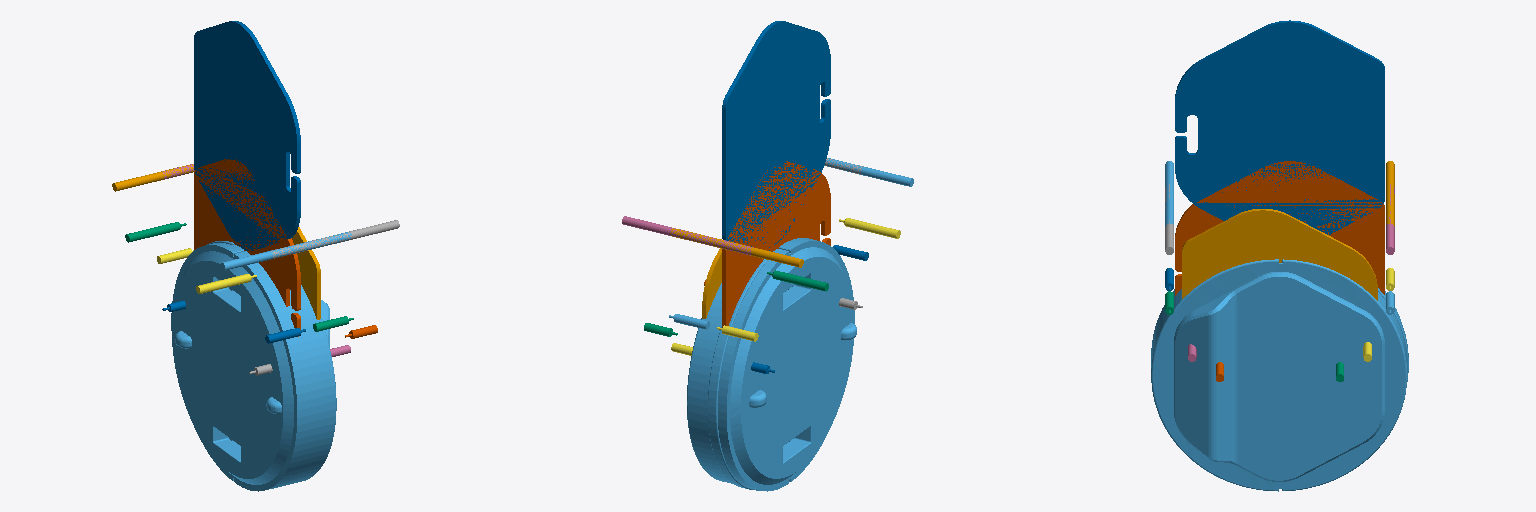
--- Render facts (derived) ---
The picture shows the robot from 3 angles, left to right: view 1: azimuth 30°, elevation 25°; view 2: azimuth 150°, elevation 25°; view 3: azimuth 270°, elevation 25°; orthographic projection.
Robot: turtlebot — 34 links, 33 joints (2 continuous, 31 fixed); root link base_footprint; default pose: all joints at 0.
Links seen in each view (by area): view 1: base_link, plate_top_link, plate_middle_link, plate_bottom_link, pole_top_3_link, pole_top_1_link, pole_top_2_link; view 2: base_link, plate_top_link, plate_middle_link, pole_top_2_link, pole_top_0_link, plate_bottom_link, pole_top_3_link; view 3: base_link, plate_top_link, plate_bottom_link, plate_middle_link, pole_top_3_link, pole_top_2_link.
Boxes of the visible links, x1,y1,x2,y2 form: base_link: (171, 241, 336, 491); plate_top_link: (194, 21, 300, 250); plate_middle_link: (194, 159, 300, 336); plate_bottom_link: (292, 227, 320, 319); pole_top_3_link: (221, 232, 351, 270); pole_top_1_link: (271, 220, 399, 258); pole_top_2_link: (112, 164, 194, 191); base_link: (687, 238, 856, 491); plate_top_link: (722, 21, 830, 250); plate_middle_link: (722, 161, 830, 327); pole_top_2_link: (670, 228, 803, 267); pole_top_0_link: (622, 216, 753, 255); plate_bottom_link: (702, 248, 721, 318); pole_top_3_link: (824, 158, 913, 186); base_link: (1151, 259, 1408, 491); plate_top_link: (1175, 20, 1384, 234); plate_bottom_link: (1182, 209, 1377, 300); plate_middle_link: (1175, 161, 1384, 295); pole_top_3_link: (1165, 161, 1173, 226); pole_top_2_link: (1386, 161, 1394, 226).
Size in the robot's own frame: 0.2938 by 0.3518 by 0.6896 metres.
Meshes: 10 distinct files referenced, 22 mesh visuals loaded (9 ASCII STL); not drawn: 1 (reference not matched to a file when rendering).

The robot description file, URDF, robot "turtlebot":
?<?xml version="1.0" encoding="utf-8"?>
<robot name="turtlebot">
  <material name="_1_-_Default">
    <texture filename="package://resources/main_body.jpg" />
  </material>
  <material name="_01 - Default">
    <texture filename="package://resources/astra.jpg" />
  </material>
  <link name="base_footprint" />
  <link name="base_link">
    <inertial>
      <origin rpy="0 0 0" xyz="0.01 0 0" />
      <mass value="2.4000000954" />
      <inertia ixx="0.0199950002133846" ixy="0" ixz="0" iyy="0.0199950002133846" iyz="0" izz="0.0367499999701977" />
    </inertial>
    <visual>
      <origin xyz="0.001 0 0.05199" />
      <geometry>
        <mesh filename="package://meshes/main_body.stl" scale="1 1 1" />
      </geometry>
      <material name="_1_-_Default" />
    </visual>
    <collision>
      <origin xyz="0 0 0.05949" />
      <geometry>
        <cylinder length="0.10938" radius="0.178" />
      </geometry>
    </collision>
  </link>
  <link name="wheel_left_link">
    <inertial>
      <origin rpy="0 0 0" xyz="0 0 0" />
      <mass value="0.0099999998" />
      <inertia ixx="0.00100000004749745" ixy="0" ixz="0" iyy="0.00100000004749745" iyz="0" izz="0.00100000004749745" />
    </inertial>
    <visual>
      <geometry>
        <mesh filename="package://meshes/wheel.stl" scale="1 1 1" />
      </geometry>
      <material name="_1_-_Default" />
    </visual>
    <collision>
      <geometry>
        <cylinder length="0.0206" radius="0.035" />
      </geometry>
    </collision>
  </link>
  <link name="wheel_right_link">
    <inertial>
      <origin rpy="0 0 0" xyz="0 0 0" />
      <mass value="0.0099999998" />
      <inertia ixx="0.00100000004749745" ixy="0" ixz="0" iyy="0.00100000004749745" iyz="0" izz="0.00100000004749745" />
    </inertial>
    <visual>
      <geometry>
        <mesh filename="package://meshes/wheel.stl" scale="1 1 1" />
      </geometry>
      <material name="_1_-_Default" />
    </visual>
    <collision>
      <geometry>
        <cylinder length="0.0206" radius="0.035" />
      </geometry>
    </collision>
  </link>
  <link name="caster_front_link">
    <inertial>
      <origin rpy="0 0 0" xyz="0 0 0" />
      <mass value="0.0099999998" />
      <inertia ixx="0.00100000004749745" ixy="0" ixz="0" iyy="0.00100000004749745" iyz="0" izz="0.00100000004749745" />
    </inertial>
    <collision>
      <geometry>
        <cylinder length="0.0176" radius="0.017" />
      </geometry>
    </collision>
  </link>
  <link name="caster_back_link">
    <inertial>
      <origin rpy="0 0 0" xyz="0 0 0" />
      <mass value="0.0099999998" />
      <inertia ixx="0.00100000004749745" ixy="0" ixz="0" iyy="0.00100000004749745" iyz="0" izz="0.00100000004749745" />
    </inertial>
    <collision>
      <geometry>
        <cylinder length="0.0176" radius="0.017" />
      </geometry>
    </collision>
  </link>
  <link name="gyro_link">
    <inertial>
      <origin rpy="0 0 0" xyz="0 0 0" />
      <mass value="0.001" />
      <inertia ixx="9.99999974737875E-05" ixy="0" ixz="0" iyy="9.99999997475243E-07" iyz="0" izz="9.99999974737875E-05" />
    </inertial>
  </link>
  <link name="cliff_sensor_left_link">
    <inertial>
      <origin rpy="0 0 0" xyz="0 0 0" />
      <mass value="0.0001" />
      <inertia ixx="9.99999974737875E-05" ixy="0" ixz="0" iyy="9.99999974737875E-05" iyz="0" izz="9.99999974737875E-05" />
    </inertial>
  </link>
  <link name="cliff_sensor_right_link">
    <inertial>
      <origin rpy="0 0 0" xyz="0 0 0" />
      <mass value="0.0001" />
      <inertia ixx="9.99999974737875E-05" ixy="0" ixz="0" iyy="9.99999974737875E-05" iyz="0" izz="9.99999974737875E-05" />
    </inertial>
  </link>
  <link name="cliff_sensor_front_link">
    <inertial>
      <origin rpy="0 0 0" xyz="0 0 0" />
      <mass value="0.0001" />
      <inertia ixx="9.99999974737875E-05" ixy="0" ixz="0" iyy="9.99999974737875E-05" iyz="0" izz="9.99999974737875E-05" />
    </inertial>
  </link>
  <link name="pole_bottom_0_link">
    <inertial>
      <origin rpy="0 0 0" xyz="0 0 0" />
      <mass value="0.0080000004" />
      <inertia ixx="1.686000018708E-06" ixy="0" ixz="0" iyy="1.686000018708E-06" iyz="0" izz="9.99999997475243E-07" />
    </inertial>
    <visual>
      <geometry>
        <mesh filename="package://meshes/pole_bottom.stl" scale="1 1 1" />
      </geometry>
      <material name="_1_-_Default" />
    </visual>
    <collision>
      <geometry>
        <cylinder length="0.0492" radius="0.006" />
      </geometry>
    </collision>
  </link>
  <link name="pole_bottom_1_link">
    <inertial>
      <origin rpy="0 0 0" xyz="0 0 0" />
      <mass value="0.0080000004" />
      <inertia ixx="1.686000018708E-06" ixy="0" ixz="0" iyy="1.686000018708E-06" iyz="0" izz="9.99999997475243E-07" />
    </inertial>
    <visual>
      <geometry>
        <mesh filename="package://meshes/pole_bottom.stl" scale="1 1 1" />
      </geometry>
      <material name="_1_-_Default" />
    </visual>
    <collision>
      <geometry>
        <cylinder length="0.0492" radius="0.006" />
      </geometry>
    </collision>
  </link>
  <link name="pole_bottom_2_link">
    <inertial>
      <origin rpy="0 0 0" xyz="0 0 0" />
      <mass value="0.0080000004" />
      <inertia ixx="1.686000018708E-06" ixy="0" ixz="0" iyy="1.686000018708E-06" iyz="0" izz="9.99999997475243E-07" />
    </inertial>
    <visual>
      <geometry>
        <mesh filename="package://meshes/pole_bottom.stl" scale="1 1 1" />
      </geometry>
      <material name="_1_-_Default" />
    </visual>
    <collision>
      <geometry>
        <cylinder length="0.0492" radius="0.006" />
      </geometry>
    </collision>
  </link>
  <link name="pole_bottom_3_link">
    <inertial>
      <origin rpy="0 0 0" xyz="0 0 0" />
      <mass value="0.0080000004" />
      <inertia ixx="1.686000018708E-06" ixy="0" ixz="0" iyy="1.686000018708E-06" iyz="0" izz="9.99999997475243E-07" />
    </inertial>
    <visual>
      <geometry>
        <mesh filename="package://meshes/pole_bottom.stl" scale="1 1 1" />
      </geometry>
      <material name="_1_-_Default" />
    </visual>
    <collision>
      <geometry>
        <cylinder length="0.0492" radius="0.006" />
      </geometry>
    </collision>
  </link>
  <link name="pole_bottom_4_link">
    <inertial>
      <origin rpy="0 0 0" xyz="0 0 0" />
      <mass value="0.0080000004" />
      <inertia ixx="1.686000018708E-06" ixy="0" ixz="0" iyy="1.686000018708E-06" iyz="0" izz="9.99999997475243E-07" />
    </inertial>
    <visual>
      <geometry>
        <mesh filename="package://meshes/pole_bottom.stl" scale="1 1 1" />
      </geometry>
      <material name="_1_-_Default" />
    </visual>
    <collision>
      <geometry>
        <cylinder length="0.0492" radius="0.006" />
      </geometry>
    </collision>
  </link>
  <link name="pole_bottom_5_link">
    <inertial>
      <origin rpy="0 0 0" xyz="0 0 0" />
      <mass value="0.0080000004" />
      <inertia ixx="1.686000018708E-06" ixy="0" ixz="0" iyy="1.686000018708E-06" iyz="0" izz="9.99999997475243E-07" />
    </inertial>
    <visual>
      <geometry>
        <mesh filename="package://meshes/pole_bottom.stl" scale="1 1 1" />
      </geometry>
      <material name="_1_-_Default" />
    </visual>
    <collision>
      <geometry>
        <cylinder length="0.0492" radius="0.006" />
      </geometry>
    </collision>
  </link>
  <link name="plate_bottom_link">
    <inertial>
      <origin rpy="0 0 0" xyz="0 0 0" />
      <mass value="0.5199999809" />
      <inertia ixx="0.00332799996249378" ixy="0" ixz="0" iyy="0.00332799996249378" iyz="0" izz="0.00665599992498755" />
    </inertial>
    <visual>
      <geometry>
        <mesh filename="package://meshes/plate_bottom.stl" scale="1 1 1" />
      </geometry>
      <material name="_1_-_Default" />
    </visual>
    <collision>
      <origin xyz="-0.02364 0 0" />
      <geometry>
        <cylinder length="0.006" radius="0.17" />
      </geometry>
    </collision>
  </link>
  <link name="pole_middle_0_link">
    <inertial>
      <origin rpy="0 0 0" xyz="0 0 0" />
      <mass value="0.0119999992" />
      <inertia ixx="3.80500000574102E-06" ixy="0" ixz="0" iyy="3.80500000574102E-06" iyz="0" izz="9.99999997475243E-07" />
    </inertial>
    <visual>
      <origin rpy="-3.141593 0 -3.141593" />
      <geometry>
        <mesh filename="package://meshes/pole_middle.stl" scale="1 1 1" />
      </geometry>
      <material name="_1_-_Default" />
    </visual>
    <collision>
      <geometry>
        <cylinder length="0.0608" radius="0.006" />
      </geometry>
    </collision>
  </link>
  <link name="pole_middle_1_link">
    <inertial>
      <origin rpy="0 0 0" xyz="0 0 0" />
      <mass value="0.0119999992" />
      <inertia ixx="3.80500000574102E-06" ixy="0" ixz="0" iyy="3.80500000574102E-06" iyz="0" izz="9.99999997475243E-07" />
    </inertial>
    <visual>
      <origin rpy="-3.141593 0 -3.141593" />
      <geometry>
        <mesh filename="package://meshes/pole_middle.stl" scale="1 1 1" />
      </geometry>
      <material name="_1_-_Default" />
    </visual>
    <collision>
      <geometry>
        <cylinder length="0.0608" radius="0.006" />
      </geometry>
    </collision>
  </link>
  <link name="pole_middle_2_link">
    <inertial>
      <origin rpy="0 0 0" xyz="0 0 0" />
      <mass value="0.0119999992" />
      <inertia ixx="3.80500000574102E-06" ixy="0" ixz="0" iyy="3.80500000574102E-06" iyz="0" izz="9.99999997475243E-07" />
    </inertial>
    <visual>
      <origin rpy="-3.141593 0 -3.141593" />
      <geometry>
        <mesh filename="package://meshes/pole_middle.stl" scale="1 1 1" />
      </geometry>
      <material name="_1_-_Default" />
    </visual>
    <collision>
      <geometry>
        <cylinder length="0.0608" radius="0.006" />
      </geometry>
    </collision>
  </link>
  <link name="pole_middle_3_link">
    <inertial>
      <origin rpy="0 0 0" xyz="0 0 0" />
      <mass value="0.0119999992" />
      <inertia ixx="3.80500000574102E-06" ixy="0" ixz="0" iyy="3.80500000574102E-06" iyz="0" izz="9.99999997475243E-07" />
    </inertial>
    <visual>
      <origin rpy="-3.141593 0 -3.141593" />
      <geometry>
        <mesh filename="package://meshes/pole_middle.stl" scale="1 1 1" />
      </geometry>
      <material name="_1_-_Default" />
    </visual>
    <collision>
      <geometry>
        <cylinder length="0.0608" radius="0.006" />
      </geometry>
    </collision>
  </link>
  <link name="plate_middle_link">
    <inertial>
      <origin rpy="0 0 0" xyz="0 0 0" />
      <mass value="0.5199999809" />
      <inertia ixx="0.00332799996249378" ixy="0" ixz="0" iyy="0.00332799996249378" iyz="0" izz="0.00665599992498755" />
    </inertial>
    <visual>
      <geometry>
        <mesh filename="package://meshes/plate_middle.stl" scale="1 1 1" />
      </geometry>
      <material name="_1_-_Default" />
    </visual>
    <collision>
      <origin xyz="0.01364 0 0" />
      <geometry>
        <mesh filename="package://meshes/plate_simple.stl" scale="0.001 0.001 0.001" />
      </geometry>
    </collision>
  </link>
  <link name="pole_top_0_link">
    <inertial>
      <origin rpy="0 0 0" xyz="0 0 0" />
      <mass value="0.0599999949" />
      <inertia ixx="0.000206990996957757" ixy="0" ixz="0" iyy="0.000206990996957757" iyz="0" izz="1.07999994725105E-06" />
    </inertial>
    <visual>
      <geometry>
        <mesh filename="package://meshes/pole_top.stl" scale="1 1 1" />
      </geometry>
      <material name="_1_-_Default" />
    </visual>
    <collision>
      <geometry>
        <cylinder length="0.2032" radius="0.006" />
      </geometry>
    </collision>
  </link>
  <link name="pole_top_1_link">
    <inertial>
      <origin rpy="0 0 0" xyz="0 0 0" />
      <mass value="0.0599999949" />
      <inertia ixx="0.000206990996957757" ixy="0" ixz="0" iyy="0.000206990996957757" iyz="0" izz="1.07999994725105E-06" />
    </inertial>
    <visual>
      <geometry>
        <mesh filename="package://meshes/pole_top.stl" scale="1 1 1" />
      </geometry>
      <material name="_1_-_Default" />
    </visual>
    <collision>
      <geometry>
        <cylinder length="0.2032" radius="0.006" />
      </geometry>
    </collision>
  </link>
  <link name="pole_top_2_link">
    <inertial>
      <origin rpy="0 0 0" xyz="0 0 0" />
      <mass value="0.0599999949" />
      <inertia ixx="0.000206990996957757" ixy="0" ixz="0" iyy="0.000206990996957757" iyz="0" izz="1.07999994725105E-06" />
    </inertial>
    <visual>
      <geometry>
        <mesh filename="package://meshes/pole_top.stl" scale="1 1 1" />
      </geometry>
      <material name="_1_-_Default" />
    </visual>
    <collision>
      <geometry>
        <cylinder length="0.2032" radius="0.006" />
      </geometry>
    </collision>
  </link>
  <link name="pole_top_3_link">
    <inertial>
      <origin rpy="0 0 0" xyz="0 0 0" />
      <mass value="0.0599999949" />
      <inertia ixx="0.000206990996957757" ixy="0" ixz="0" iyy="0.000206990996957757" iyz="0" izz="1.07999994725105E-06" />
    </inertial>
    <visual>
      <geometry>
        <mesh filename="package://meshes/pole_top.stl" scale="1 1 1" />
      </geometry>
      <material name="_1_-_Default" />
    </visual>
    <collision>
      <geometry>
        <cylinder length="0.2032" radius="0.006" />
      </geometry>
    </collision>
  </link>
  <link name="pole_kinect_0_link">
    <inertial>
      <origin rpy="0 0 0" xyz="0 0 0" />
      <mass value="0.0199999996" />
      <inertia ixx="1.47820001075161E-05" ixy="0" ixz="0" iyy="1.47820001075161E-05" iyz="0" izz="9.99999997475243E-07" />
    </inertial>
    <visual>
      <geometry>
        <mesh filename="package://meshes/pole_kinect.stl" scale="1 1 1" />
      </geometry>
      <material name="_1_-_Default" />
    </visual>
    <collision>
      <geometry>
        <cylinder length="0.0936" radius="0.006" />
      </geometry>
    </collision>
  </link>
  <link name="pole_kinect_1_link">
    <inertial>
      <origin rpy="0 0 0" xyz="0 0 0" />
      <mass value="0.0199999996" />
      <inertia ixx="1.47820001075161E-05" ixy="0" ixz="0" iyy="1.47820001075161E-05" iyz="0" izz="9.99999997475243E-07" />
    </inertial>
    <visual>
      <geometry>
        <mesh filename="package://meshes/pole_kinect.stl" scale="1 1 1" />
      </geometry>
      <material name="_1_-_Default" />
    </visual>
    <collision>
      <geometry>
        <cylinder length="0.0936" radius="0.006" />
      </geometry>
    </collision>
  </link>
  <link name="plate_top_link">
    <inertial>
      <origin rpy="0 0 0" xyz="0 0 0" />
      <mass value="0.5199999809" />
      <inertia ixx="0.00332799996249378" ixy="0" ixz="0" iyy="0.00332799996249378" iyz="0" izz="0.00665599992498755" />
    </inertial>
    <visual>
      <geometry>
        <mesh filename="package://meshes/plate_top.stl" scale="1 1 1" />
      </geometry>
      <material name="_1_-_Default" />
    </visual>
    <collision>
      <origin xyz="0.01364 0 0" />
      <geometry>
        <mesh filename="package://meshes/plate_simple.stl" scale="0.001 0.001 0.001" />
      </geometry>
    </collision>
  </link>
  <link name="camera_rgb_frame" />
  <link name="camera_rgb_optical_frame" />
  <link name="camera_link">
    <inertial>
      <origin rpy="0 0 0" xyz="0 0 0" />
      <mass value="0.5640000105" />
      <inertia ixx="0.003881243057549" ixy="0" ixz="0" iyy="0.00049894000403583" iyz="0" izz="0.00387925724498928" />
    </inertial>
    <visual>
      <origin rpy="-4.712389 0 -4.712389" xyz="-0.04 0.02 -0.01" />
      <geometry>
        <mesh filename="package://meshes/astra.stl" scale="0.000668 0.000668 0.000668" />
      </geometry>
      <material name="_01 - Default" />
    </visual>
    <collision>
      <geometry>
        <box size="0.04 0.165 0.03" />
      </geometry>
    </collision>
    <collision>
      <origin rpy="-4.712389 0 -4.712389" xyz="-0.04 0.02 -0.01" />
      <geometry>
        <mesh filename="package://meshes/astra.stl" scale="0.000668 0.000668 0.000668" />
      </geometry>
    </collision>
  </link>
  <link name="camera_depth_frame" />
  <link name="camera_depth_optical_frame" />
  <joint name="base_footprint_base_link_joint" type="fixed">
    <origin xyz="0 0 0.0102" />
    <parent link="base_footprint" />
    <child link="base_link" />
  </joint>
  <joint name="wheel_left_joint" type="continuous">
    <origin rpy="-1.570796 0 0" xyz="0 0.115 0.025" />
    <parent link="base_link" />
    <child link="wheel_left_link" />
    <axis xyz="0 0 1" />
  </joint>
  <joint name="wheel_right_joint" type="continuous">
    <origin rpy="-1.570796 0 0" xyz="0 -0.115 0.025" />
    <parent link="base_link" />
    <child link="wheel_right_link" />
    <axis xyz="0 0 1" />
  </joint>
  <joint name="caster_front_joint" type="fixed">
    <origin rpy="-1.570796 0 0" xyz="0.115 0 0.007" />
    <parent link="base_link" />
    <child link="caster_front_link" />
  </joint>
  <joint name="caster_back_joint" type="fixed">
    <origin rpy="-1.570796 0 0" xyz="-0.135 0 0.009" />
    <parent link="base_link" />
    <child link="caster_back_link" />
  </joint>
  <joint name="gyro_joint" type="fixed">
    <origin xyz="0.056 0.062 0.0202" />
    <parent link="base_link" />
    <child link="gyro_link" />
  </joint>
  <joint name="cliff_sensor_left_joint" type="fixed">
    <origin rpy="0 1.570796 0" xyz="0.08734 0.13601 0.0214" />
    <parent link="base_link" />
    <child link="cliff_sensor_left_link" />
  </joint>
  <joint name="cliff_sensor_right_joint" type="fixed">
    <origin rpy="0 1.570796 0" xyz="0.085 -0.13601 0.0214" />
    <parent link="base_link" />
    <child link="cliff_sensor_right_link" />
  </joint>
  <joint name="cliff_sensor_front_joint" type="fixed">
    <origin rpy="0 1.570796 0" xyz="0.156 0 0.0214" />
    <parent link="base_link" />
    <child link="cliff_sensor_front_link" />
  </joint>
  <joint name="pole_bottom_0_joint" type="fixed">
    <origin xyz="0.12 0.082 0.1028" />
    <parent link="base_link" />
    <child link="pole_bottom_0_link" />
  </joint>
  <joint name="pole_bottom_1_joint" type="fixed">
    <origin xyz="0.055 0.12 0.1028" />
    <parent link="base_link" />
    <child link="pole_bottom_1_link" />
  </joint>
  <joint name="pole_bottom_2_joint" type="fixed">
    <origin xyz="-0.055 0.12 0.1028" />
    <parent link="base_link" />
    <child link="pole_bottom_2_link" />
  </joint>
  <joint name="pole_bottom_3_joint" type="fixed">
    <origin xyz="0.12 -0.082 0.1028" />
    <parent link="base_link" />
    <child link="pole_bottom_3_link" />
  </joint>
  <joint name="pole_bottom_4_joint" type="fixed">
    <origin xyz="0.055 -0.12 0.1028" />
    <parent link="base_link" />
    <child link="pole_bottom_4_link" />
  </joint>
  <joint name="pole_bottom_5_joint" type="fixed">
    <origin xyz="-0.055 -0.12 0.1028" />
    <parent link="base_link" />
    <child link="pole_bottom_5_link" />
  </joint>
  <joint name="plate_bottom_joint" type="fixed">
    <origin xyz="0.02364 0 0.1306" />
    <parent link="base_link" />
    <child link="plate_bottom_link" />
  </joint>
  <joint name="pole_middle_0_joint" type="fixed">
    <origin xyz="0.0381 0.1505 0.164" />
    <parent link="base_link" />
    <child link="pole_middle_0_link" />
  </joint>
  <joint name="pole_middle_1_joint" type="fixed">
    <origin xyz="0.0381 -0.1505 0.164" />
    <parent link="base_link" />
    <child link="pole_middle_1_link" />
  </joint>
  <joint name="pole_middle_2_joint" type="fixed">
    <origin xyz="-0.0381 0.1505 0.164" />
    <parent link="base_link" />
    <child link="pole_middle_2_link" />
  </joint>
  <joint name="pole_middle_3_joint" type="fixed">
    <origin xyz="-0.0381 -0.1505 0.164" />
    <parent link="base_link" />
    <child link="pole_middle_3_link" />
  </joint>
  <joint name="plate_middle_joint" type="fixed">
    <origin xyz="-0.01364 0 0.1874" />
    <parent link="base_link" />
    <child link="plate_middle_link" />
  </joint>
  <joint name="pole_top_0_joint" type="fixed">
    <origin xyz="0.0381 0.1505 0.292" />
    <parent link="base_link" />
    <child link="pole_top_0_link" />
  </joint>
  <joint name="pole_top_1_joint" type="fixed">
    <origin xyz="0.0381 -0.1505 0.292" />
    <parent link="base_link" />
    <child link="pole_top_1_link" />
  </joint>
  <joint name="pole_top_2_joint" type="fixed">
    <origin xyz="-0.0381 0.1505 0.292" />
    <parent link="base_link" />
    <child link="pole_top_2_link" />
  </joint>
  <joint name="pole_top_3_joint" type="fixed">
    <origin xyz="-0.0381 -0.1505 0.292" />
    <parent link="base_link" />
    <child link="pole_top_3_link" />
  </joint>
  <joint name="pole_kinect_0_joint" type="fixed">
    <origin xyz="-0.1024 0.098 0.2372" />
    <parent link="base_link" />
    <child link="pole_kinect_0_link" />
  </joint>
  <joint name="pole_kinect_1_joint" type="fixed">
    <origin xyz="-0.1024 -0.098 0.2372" />
    <parent link="base_link" />
    <child link="pole_kinect_1_link" />
  </joint>
  <joint name="plate_top_joint" type="fixed">
    <origin xyz="-0.01364 0 0.3966" />
    <parent link="base_link" />
    <child link="plate_top_link" />
  </joint>
  <joint name="base_link_camera_rgb_frame_joint" type="fixed">
    <origin xyz="-0.087 -0.0125 0.287" />
    <parent link="base_link" />
    <child link="camera_rgb_frame" />
  </joint>
  <joint name="camera_rgb_frame_camera_rgb_optical_frame_joint" type="fixed">
    <origin rpy="-1.570796 0 -1.570796" />
    <parent link="camera_rgb_frame" />
    <child link="camera_rgb_optical_frame" />
  </joint>
  <joint name="camera_rgb_frame_camera_link_joint" type="fixed">
    <origin xyz="0 -0.0125 0" />
    <parent link="camera_rgb_frame" />
    <child link="camera_link" />
  </joint>
  <joint name="camera_rgb_frame_camera_depth_frame_joint" type="fixed">
    <origin xyz="0 0.025 0" />
    <parent link="camera_rgb_frame" />
    <child link="camera_depth_frame" />
  </joint>
  <joint name="camera_depth_frame_camera_depth_optical_frame_joint" type="fixed">
    <origin rpy="-1.570796 0 -1.570796" />
    <parent link="camera_depth_frame" />
    <child link="camera_depth_optical_frame" />
  </joint>
  <gazebo reference="wheel_left_link">
  <mu1>1.0</mu1>
  <mu2>1.0</mu2>
  <kp>1000000.0</kp>
  <kd>100.0</kd>
  <minDepth>0.001</minDepth>
  <maxVel>1.0</maxVel>
  <sensor name="wheel_drop_left" type="contact">
    <always_on>1</always_on>
    <update_rate>50.0</update_rate>
    <visualize>true</visualize>
    <contact>
      <collision>wheel_left_link_collision</collision>
    </contact>
  </sensor>
</gazebo>
<gazebo reference="wheel_right_link">
  <mu1>1.0</mu1>
  <mu2>1.0</mu2>
  <kp>1000000.0</kp>
  <kd>100.0</kd>
  <minDepth>0.001</minDepth>
  <maxVel>1.0</maxVel>
  <sensor name="wheel_drop_right" type="contact">
    <always_on>1</always_on>
    <update_rate>50.0</update_rate>
    <visualize>true</visualize>
    <contact>
      <collision>wheel_right_link_collision</collision>
    </contact>
  </sensor>
</gazebo>
<gazebo reference="caster_front_link">
  <mu1>0.0</mu1>
  <mu2>0.0</mu2>
  <kp>1000000.0</kp>
  <kd>100.0</kd>
  <minDepth>0.001</minDepth>
  <maxVel>1.0</maxVel>
</gazebo>
<gazebo reference="caster_back_link">
  <mu1>0.0</mu1>
  <mu2>0.0</mu2>
  <kp>1000000.0</kp>
  <kd>100.0</kd>
  <minDepth>0.001</minDepth>
  <maxVel>1.0</maxVel>
</gazebo>
<gazebo reference="base_link">
  <mu1>0.3</mu1>
  <mu2>0.3</mu2>
  <sensor name="bumpers" type="contact">
    <always_on>1</always_on>
    <update_rate>50.0</update_rate>
    <visualize>true</visualize>
    <contact>
      <collision>base_footprint_fixed_joint_lump__base_collision</collision>
    </contact>
  </sensor>
</gazebo>
<gazebo reference="cliff_sensor_left_link">
  <sensor name="cliff_sensor_left" type="ray">
    <always_on>true</always_on>
    <update_rate>50</update_rate>
    <visualize>true</visualize>
    <ray>
      <scan>
        <horizontal>
          <samples>50</samples>
          <resolution>1.0</resolution>
          <min_angle>-0.0436</min_angle>
          <!-- -2.5 degree -->
          <max_angle>0.0436</max_angle>
          <!-- 2.5 degree -->
        </horizontal>
        <!--            Can't use vertical rays until this bug is resolved: -->
        <!--            https://bitbucket.org/osrf/gazebo/issue/509/vertical-sensor-doesnt-works -->
        <!--               <vertical> -->
        <!--                 <samples>50</samples> -->
        <!--                 <resolution>1.0</resolution> -->
        <!--                 <min_angle>-0.0436</min_angle>  -2.5 degree -->
        <!--                 <max_angle>0.0436</max_angle> 2.5 degree -->
        <!--               </vertical> -->
      </scan>
      <range>
        <min>0.01</min>
        <max>0.15</max>
        <resolution>1.0</resolution>
      </range>
    </ray>
  </sensor>
</gazebo>
<gazebo reference="cliff_sensor_right_link">
  <sensor name="cliff_sensor_right" type="ray">
    <always_on>true</always_on>
    <update_rate>50</update_rate>
    <visualize>true</visualize>
    <ray>
      <scan>
        <horizontal>
          <samples>50</samples>
          <resolution>1.0</resolution>
          <min_angle>-0.0436</min_angle>
          <!-- -2.5 degree -->
          <max_angle>0.0436</max_angle>
          <!-- 2.5 degree -->
        </horizontal>
        <!--            Can't use vertical rays until this bug is resolved: -->
        <!--            https://bitbucket.org/osrf/gazebo/issue/509/vertical-sensor-doesnt-works -->
        <!--               <vertical> -->
        <!--                 <samples>50</samples> -->
        <!--                 <resolution>1.0</resolution> -->
        <!--                 <min_angle>-0.0436</min_angle>  -2.5 degree -->
        <!--                 <max_angle>0.0436</max_angle> 2.5 degree -->
        <!--               </vertical> -->
      </scan>
      <range>
        <min>0.01</min>
        <max>0.15</max>
        <resolution>1.0</resolution>
      </range>
    </ray>
  </sensor>
</gazebo>
<gazebo reference="cliff_sensor_front_link">
  <sensor name="cliff_sensor_front" type="ray">
    <always_on>true</always_on>
    <update_rate>50</update_rate>
    <visualize>true</visualize>
    <ray>
      <scan>
        <horizontal>
          <samples>50</samples>
          <resolution>1.0</resolution>
          <min_angle>-0.0436</min_angle>
          <!-- -2.5 degree -->
          <max_angle>0.0436</max_angle>
          <!-- 2.5 degree -->
        </horizontal>
        <!--               Can't use vertical rays until this bug is resolved: -->
        <!--            https://bitbucket.org/osrf/gazebo/issue/509/vertical-sensor-doesnt-works -->
        <!--               <vertical> -->
        <!--                 <samples>50</samples> -->
        <!--                 <resolution>1.0</resolution> -->
        <!--                 <min_angle>-0.0436</min_angle>  -2.5 degree -->
        <!--                 <max_angle>0.0436</max_angle> 2.5 degree -->
        <!--               </vertical> -->
      </scan>
      <range>
        <min>0.01</min>
        <max>0.15</max>
        <resolution>1.0</resolution>
      </range>
    </ray>
  </sensor>
</gazebo>
<gazebo reference="gyro_link">
  <sensor name="imu" type="imu">
    <always_on>true</always_on>
    <update_rate>50</update_rate>
    <visualize>false</visualize>
    <imu>
      <noise>
        <type>gaussian</type>
        <rate>
          <mean>0.0</mean>
          <stddev>1.96e-06</stddev>
          <!-- 0.25 x 0.25 (deg/s) -->
          <bias_mean>0.0</bias_mean>
          <bias_stddev>0.0</bias_stddev>
        </rate>
        <accel>
          <!-- not used in the plugin and real robot, hence using tutorial values -->
          <mean>0.0</mean>
          <stddev>1.7e-2</stddev>
          <bias_mean>0.1</bias_mean>
          <bias_stddev>0.001</bias_stddev>
        </accel>
      </noise>
    </imu>
  </sensor>
</gazebo>
<gazebo>
  <plugin filename="libgazebo_ros_kobuki.so" name="kobuki_controller">
    <publish_tf>1</publish_tf>
    <left_wheel_joint_name>wheel_left_joint</left_wheel_joint_name>
    <right_wheel_joint_name>wheel_right_joint</right_wheel_joint_name>
    <wheel_separation>.230</wheel_separation>
    <wheel_diameter>0.070</wheel_diameter>
    <torque>1.0</torque>
    <velocity_command_timeout>0.6</velocity_command_timeout>
    <cliff_sensor_left_name>cliff_sensor_left</cliff_sensor_left_name>
    <cliff_sensor_center_name>cliff_sensor_front</cliff_sensor_center_name>
    <cliff_sensor_right_name>cliff_sensor_right</cliff_sensor_right_name>
    <cliff_detection_threshold>0.04</cliff_detection_threshold>
    <bumper_name>bumpers</bumper_name>
    <imu_name>imu</imu_name>
    <wheel_drop_left_sensor_name>wheel_drop_left</wheel_drop_left_sensor_name>
    <wheel_drop_right_sensor_name>wheel_drop_right</wheel_drop_right_sensor_name>
  </plugin>
</gazebo>
<gazebo reference="camera_link">
  <sensor name="camera" type="depth">
    <always_on>true</always_on>
    <update_rate>20.0</update_rate>
    <camera>
      <horizontal_fov>1.0471975511965976</horizontal_fov>
      <image>
        <format>B8G8R8</format>
        <width>640</width>
        <height>480</height>
      </image>
      <clip>
        <near>0.05</near>
        <far>8.0</far>
      </clip>
    </camera>
    <plugin filename="libgazebo_ros_openni_kinect.so" name="kinect_camera_controller">
      <cameraName>camera</cameraName>
      <alwaysOn>true</alwaysOn>
      <updateRate>10</updateRate>
      <imageTopicName>rgb/image_raw</imageTopicName>
      <depthImageTopicName>depth/image_raw</depthImageTopicName>
      <pointCloudTopicName>depth/points</pointCloudTopicName>
      <cameraInfoTopicName>rgb/camera_info</cameraInfoTopicName>
      <depthImageCameraInfoTopicName>depth/camera_info</depthImageCameraInfoTopicName>
      <frameName>camera_depth_optical_frame</frameName>
      <baseline>0.1</baseline>
      <distortion_k1>0.0</distortion_k1>
      <distortion_k2>0.0</distortion_k2>
      <distortion_k3>0.0</distortion_k3>
      <distortion_t1>0.0</distortion_t1>
      <distortion_t2>0.0</distortion_t2>
      <pointCloudCutoff>0.4</pointCloudCutoff>
    </plugin>
  </sensor>
</gazebo>
</robot>
